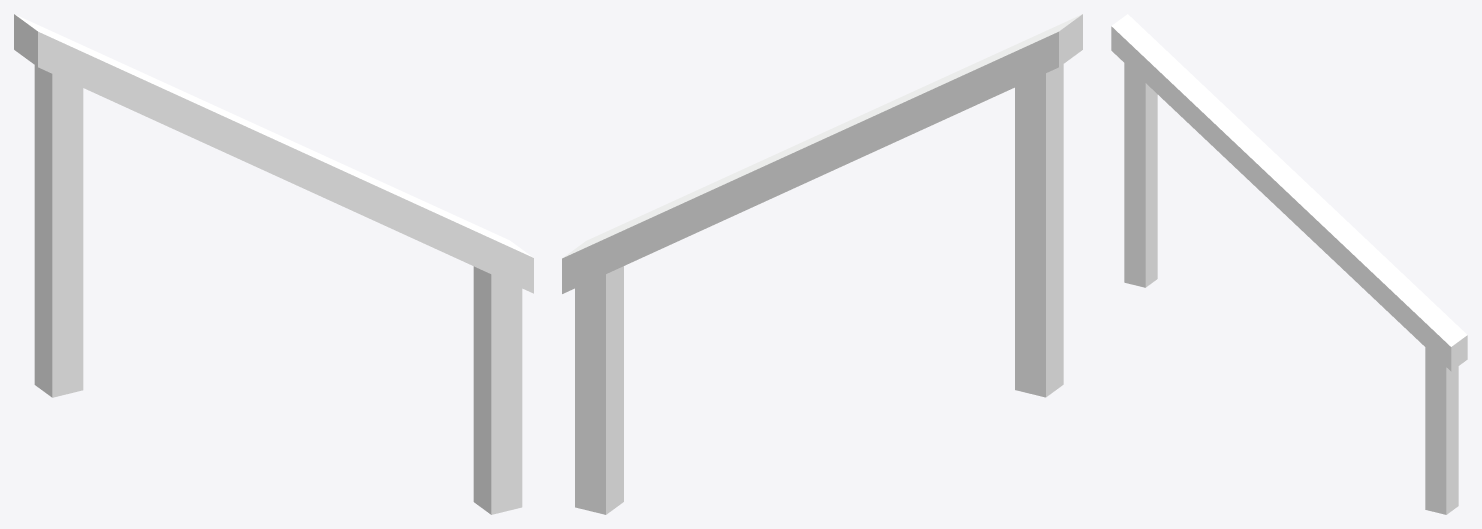
Rendered from rail.001.glb.
3 views of the same model, side by side, from view 1: azimuth 30°, elevation 25°; view 2: azimuth 150°, elevation 25°; view 3: azimuth 330°, elevation 25° (orthographic). The views are drawn at different scales.
Parts seen in each view (by area): view 1: rail.001(Clone); view 2: rail.001(Clone); view 3: rail.001(Clone).
Boxes of the visible parts, <box> form: rail.001(Clone): <box>14,14,533,514</box>; rail.001(Clone): <box>562,14,1082,514</box>; rail.001(Clone): <box>1111,14,1467,514</box>.
Bounding box in the file's own units: 1.36 × 1.56 × 0.1139.
Materials: 1 (1 with a texture image).
